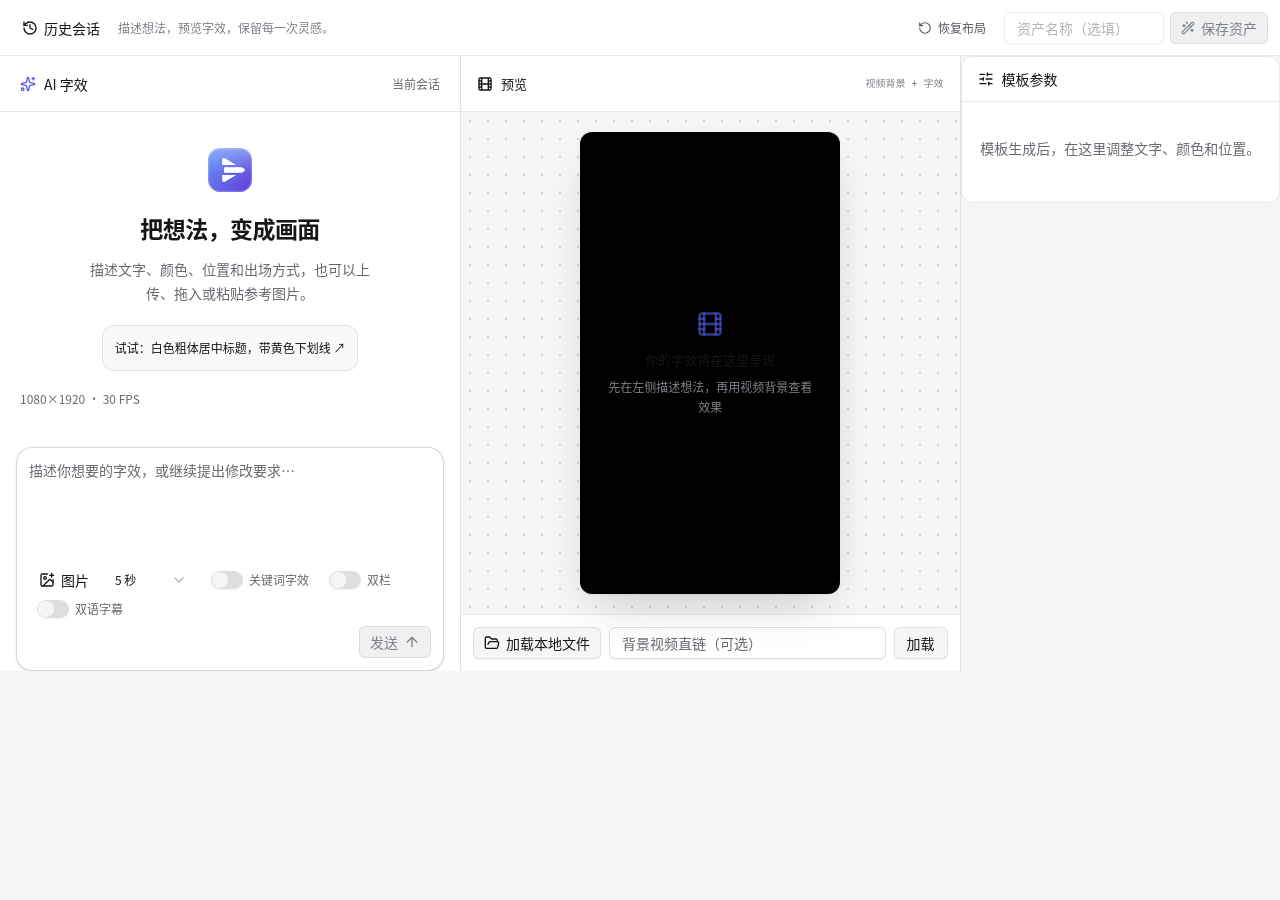
it: 本机没有记住的会话时静默清空并允许新增
Type "新的任务" into the text box named "字效描述".
click(230, 508); type("新的任务")  # box top-left (29, 460), bottom-right (431, 556)
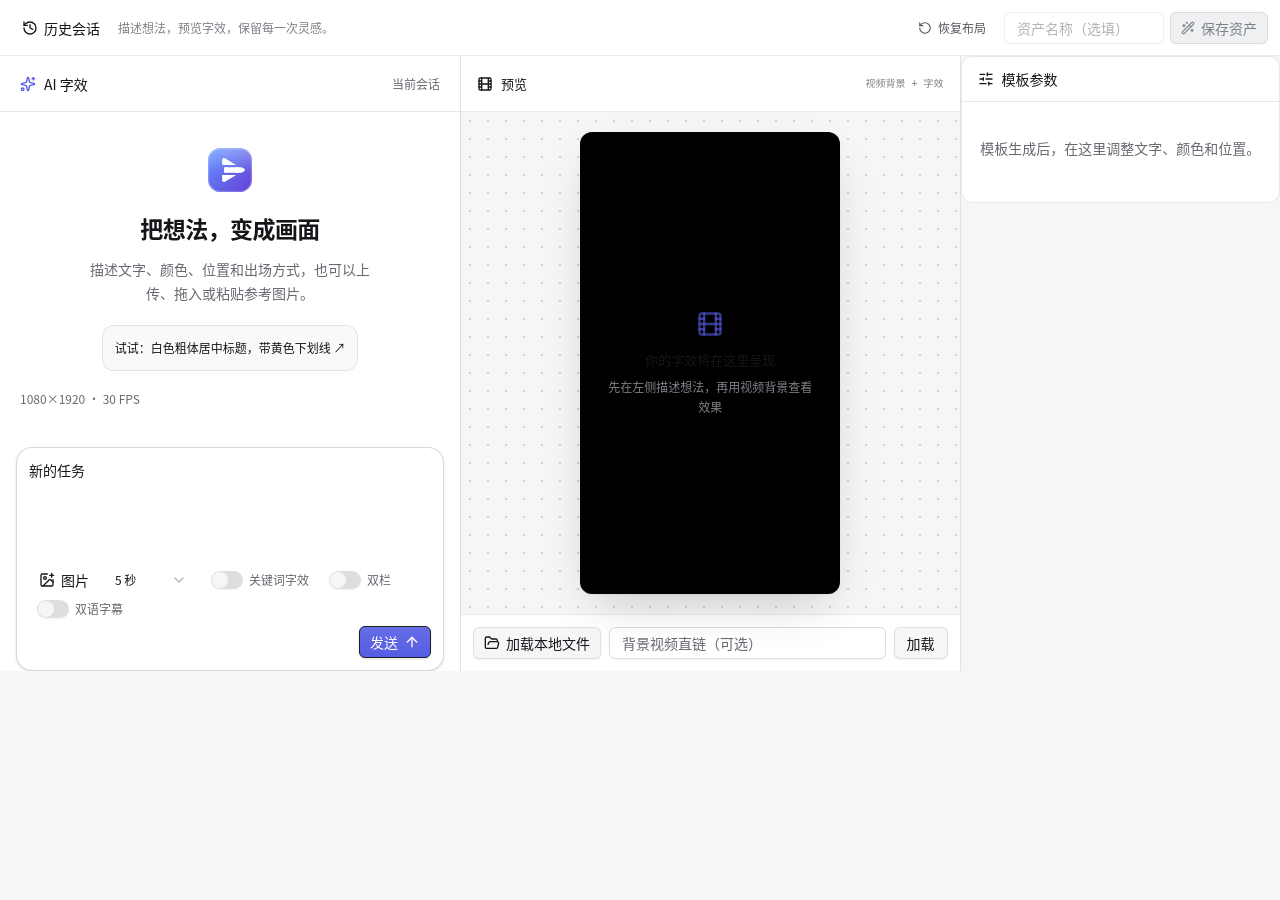
Check: the button "发送" is enabled, box top-left (359, 626), bottom-right (431, 658)
